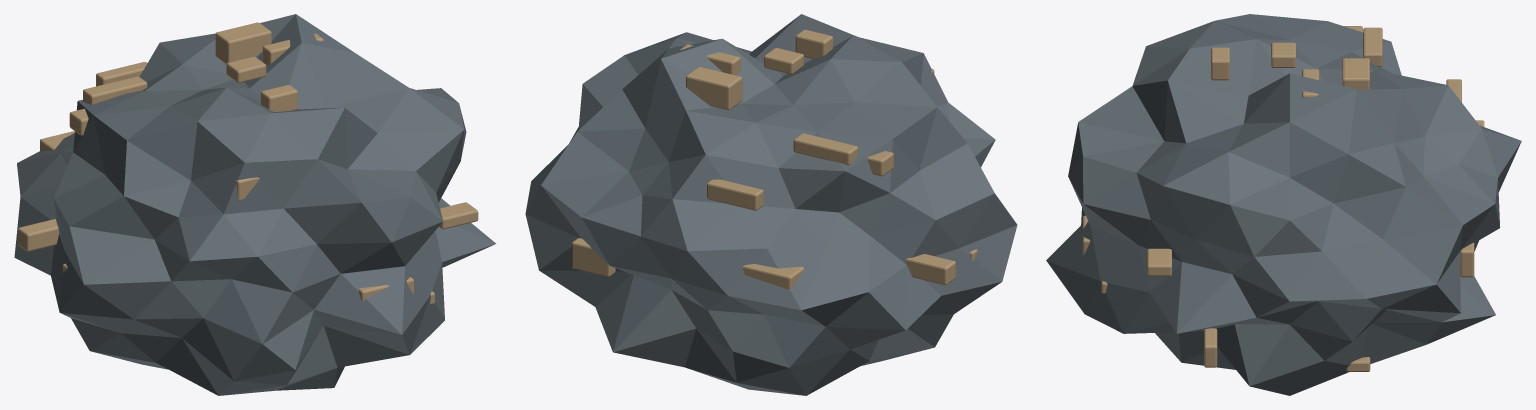
The model's file is ore_iron.glb.
3 renders of one model, left to right at view 1: azimuth 30°, elevation 25°; view 2: azimuth 150°, elevation 25°; view 3: azimuth 270°, elevation 25°, orthographic.
Parts seen in each view (by area): view 1: deepforge_dark.003, ore_iron_vein; view 2: deepforge_dark.003, ore_iron_vein; view 3: deepforge_dark.003, ore_iron_vein.
Boxes of the visible parts, x1,y1,x2,y2 form: deepforge_dark.003: [14, 14, 496, 395]; ore_iron_vein: [18, 22, 478, 304]; deepforge_dark.003: [525, 14, 1017, 395]; ore_iron_vein: [572, 29, 977, 289]; deepforge_dark.003: [1046, 14, 1521, 395]; ore_iron_vein: [1082, 26, 1484, 371].
Size of the model in its own units: 48.88 by 34.98 by 48.18.
